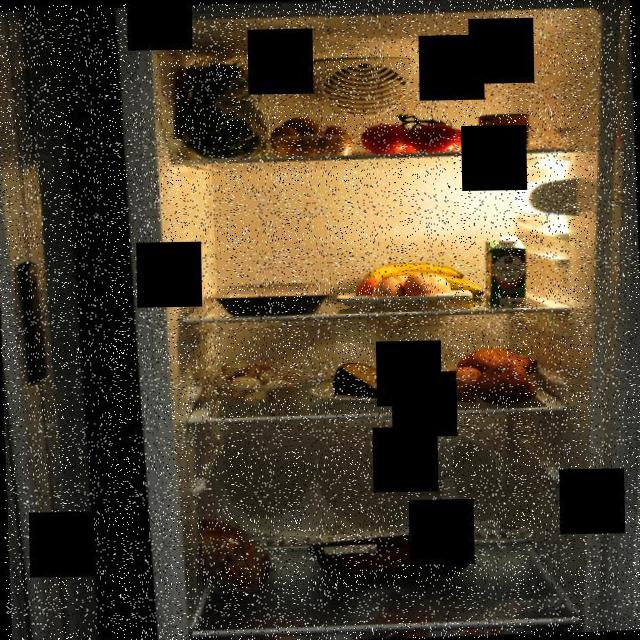Carne vacuno: (304, 528, 480, 590)
Champiñones: (214, 356, 301, 406)
Huevos: (354, 274, 450, 310)
Patata: (264, 113, 356, 158)
Plátano: (360, 258, 487, 302)
Queso: (329, 358, 417, 401)
Tomate: (358, 99, 466, 154)
bread: (198, 514, 274, 596)
corn: (474, 108, 534, 154)
heavy_cream: (482, 234, 528, 308)
spinach: (177, 56, 274, 162)
sweet_potato: (434, 344, 542, 406)
